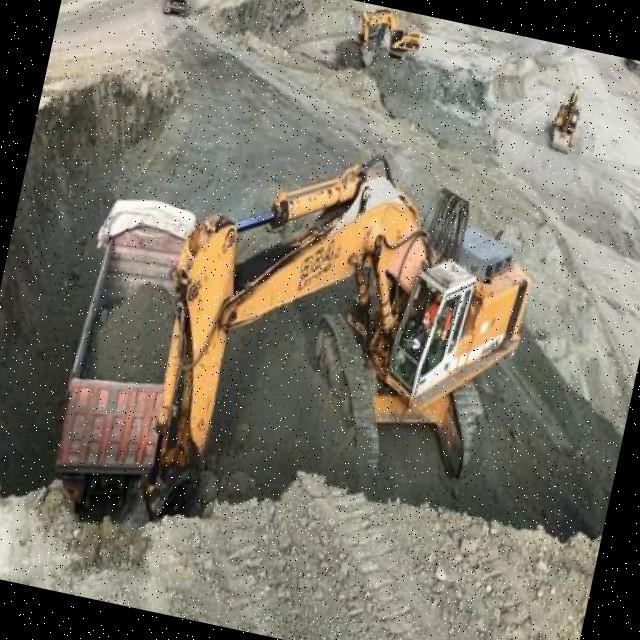Dump Truck: (40, 191, 201, 518), (152, 0, 194, 29)
Excavator: (131, 109, 554, 586), (350, 2, 426, 78), (542, 76, 589, 156)
